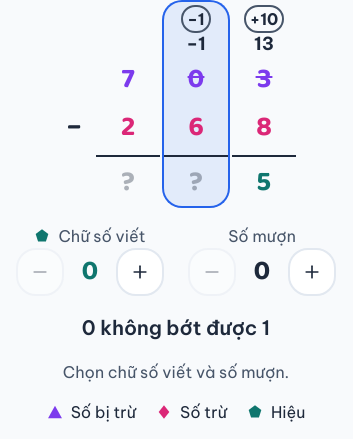
Test case: ColumnTry › includes the borrow coming into a subtraction column
The width and height of the screenshot is (353, 439).
Expected: the text "0 không bớt được 1" is shown, [82,312,270,344]
Click the button named "Tăng chữ số viết": (140, 272) [116,248,164,296]
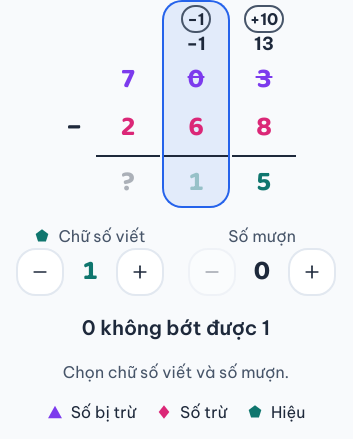
Click the button named "Tăng chữ số viết": (140, 272) [116,248,164,296]
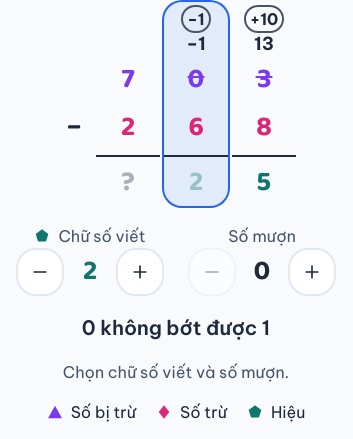
Click the button named "Tăng chữ số viết": (140, 272) [116,248,164,296]
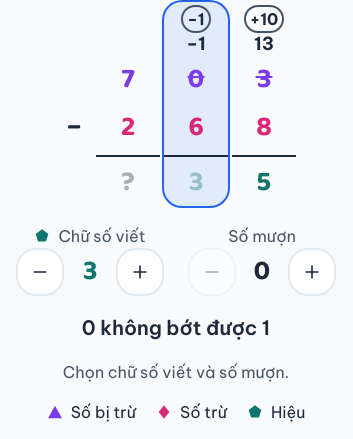
Click the button named "Tăng số mượn": (312, 272) [288,248,336,296]
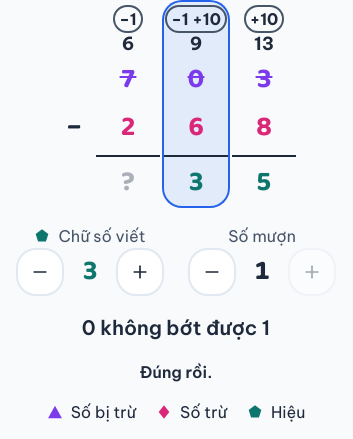
Expected: the text "Đúng rồi." is shown, [140,360,212,384]
